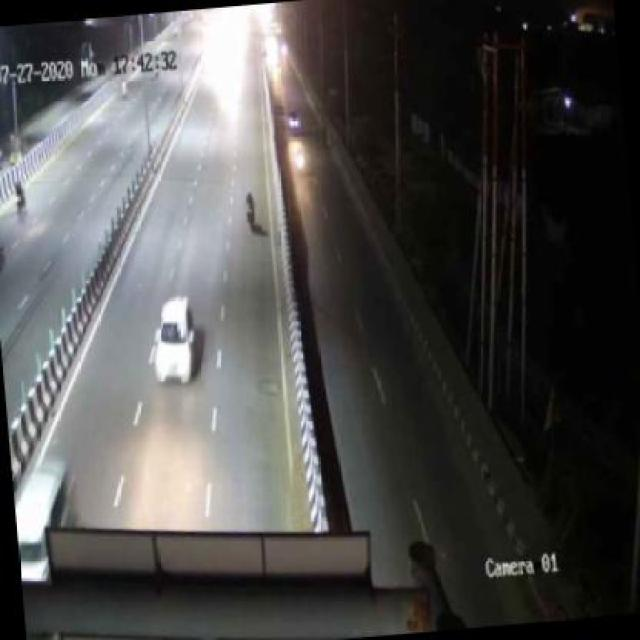car: (14, 460, 86, 565), (144, 296, 208, 386), (283, 100, 305, 138)
